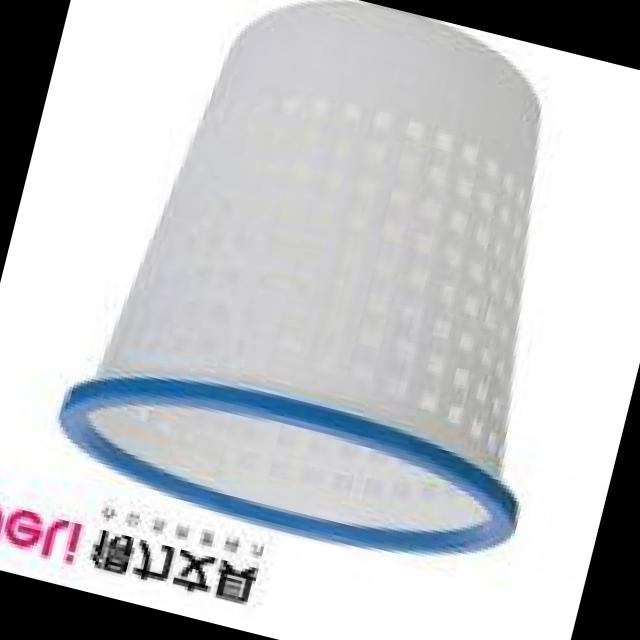dustbin: (36, 0, 633, 596)
